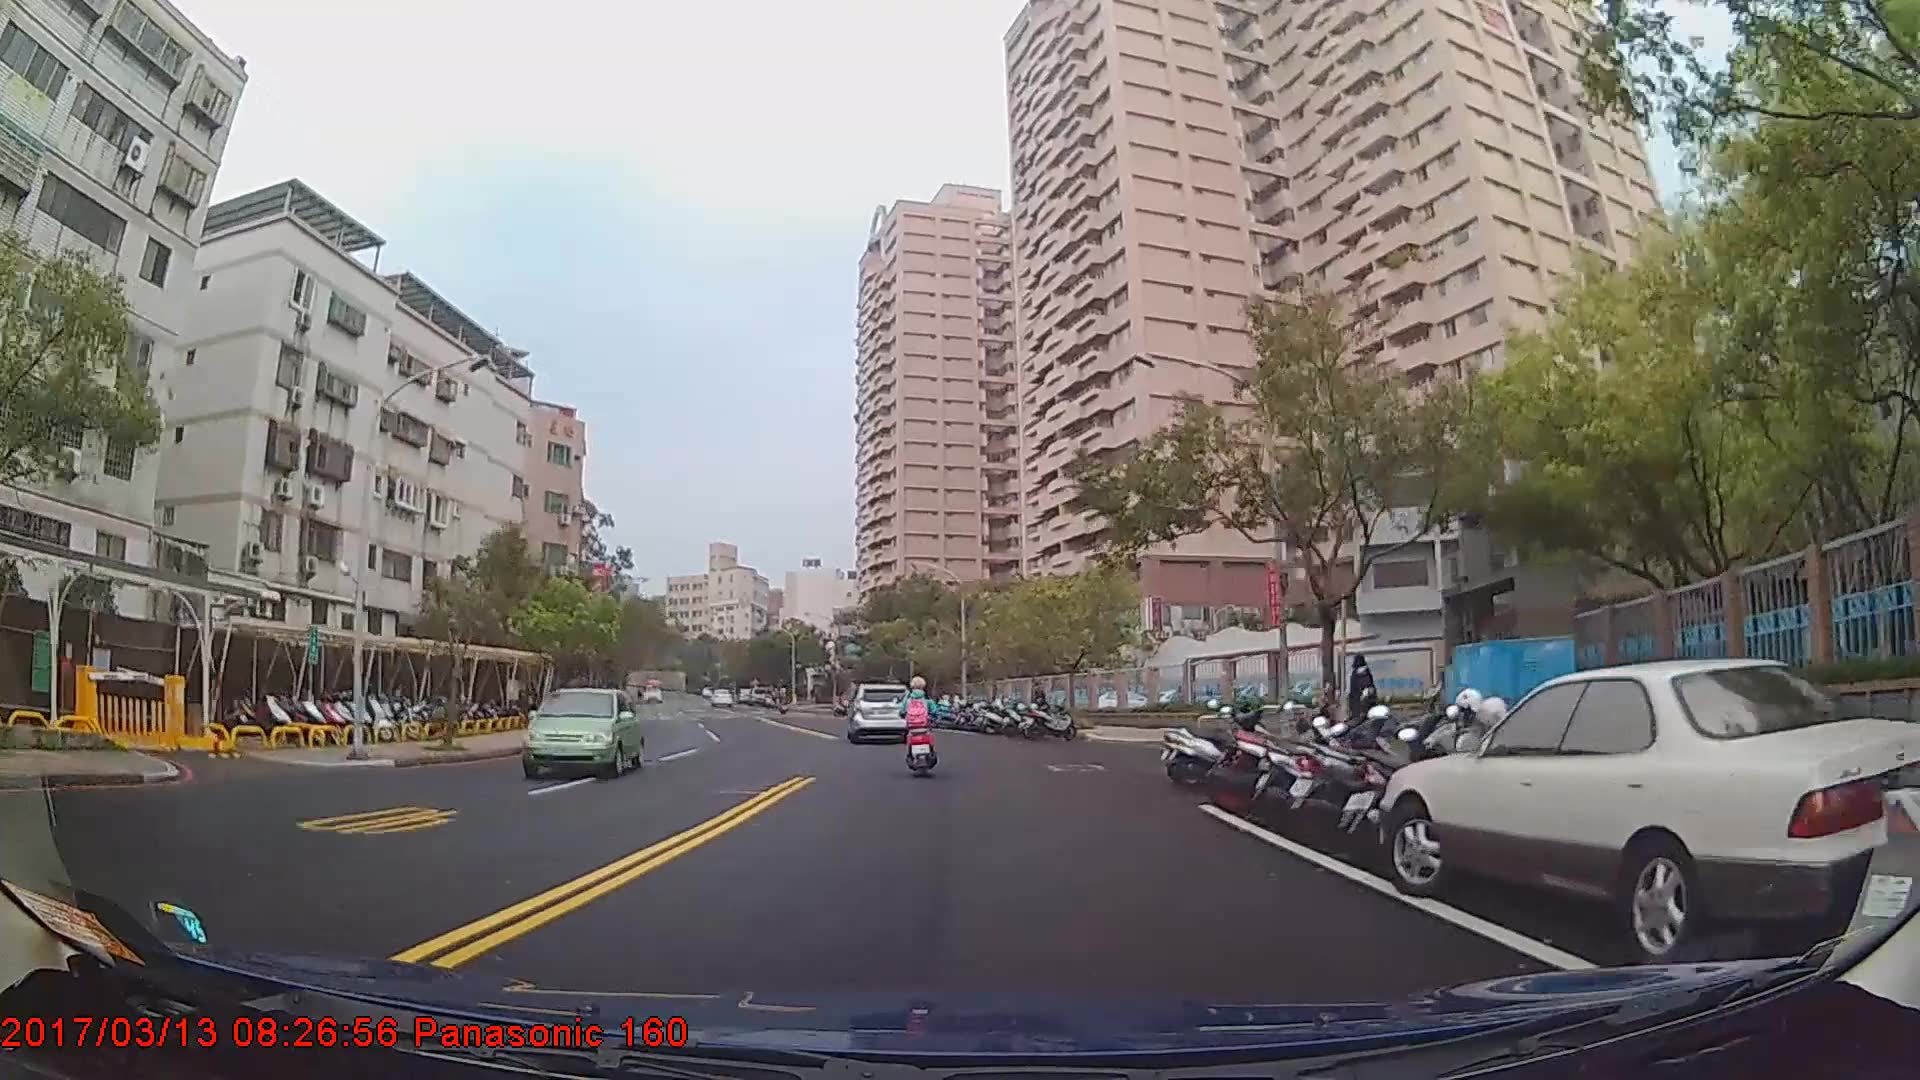pedestrian: (1350, 655, 1379, 758), (1030, 680, 1050, 727)
rider: (901, 675, 941, 781)
vehicle: (1377, 653, 1891, 956), (515, 684, 642, 774), (848, 679, 914, 742), (640, 678, 662, 704)
